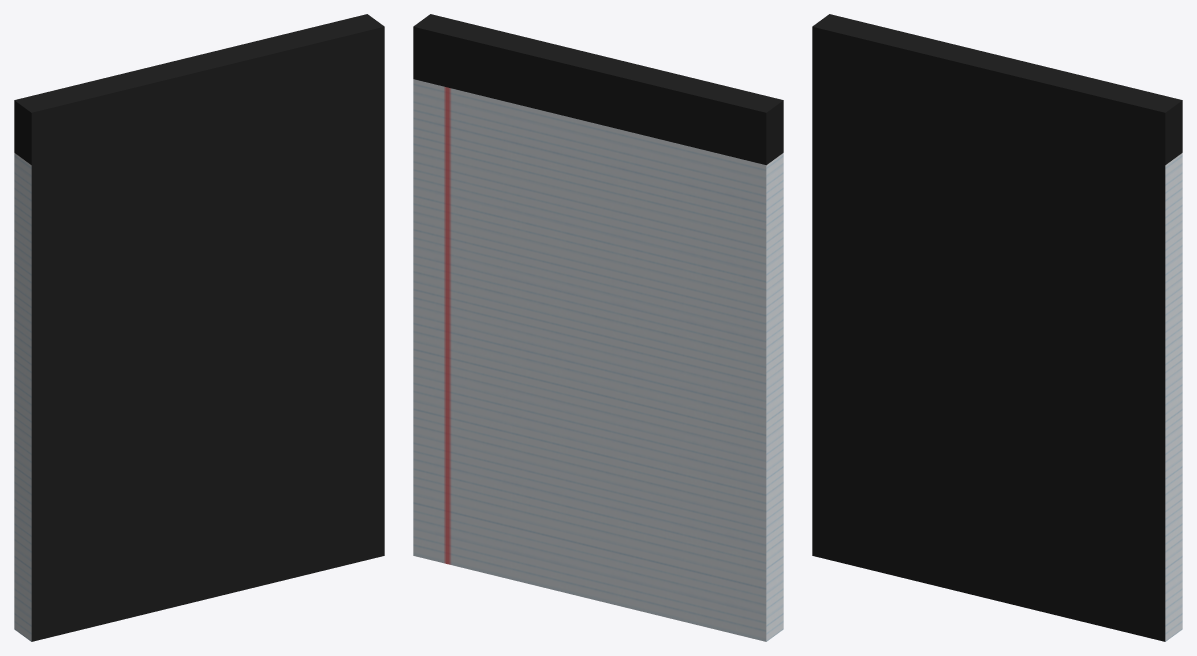
The model's file is notepad.fbx.
3 renders of one model, left to right at view 1: azimuth 30°, elevation 25°; view 2: azimuth 150°, elevation 25°; view 3: azimuth 330°, elevation 25°, orthographic.
Visible parts, largest first — view 1: pCube29; view 2: pCube29; view 3: pCube29.
Boxes of the visible parts, x1,y1,x2,y2 form: pCube29: (14,14,384,641); pCube29: (413,14,783,641); pCube29: (812,14,1182,641).
Bounding box in the file's own units: 0.1374 × 0.1967 × 0.0117.
